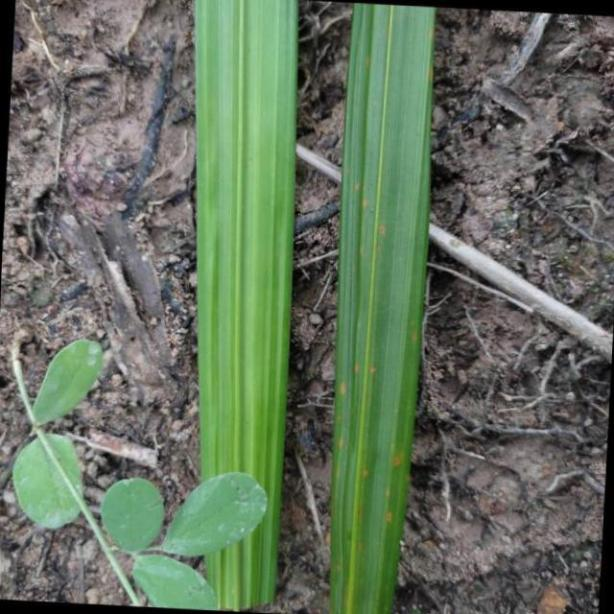nitrogen: (332, 0, 440, 614), (197, 0, 297, 614)
